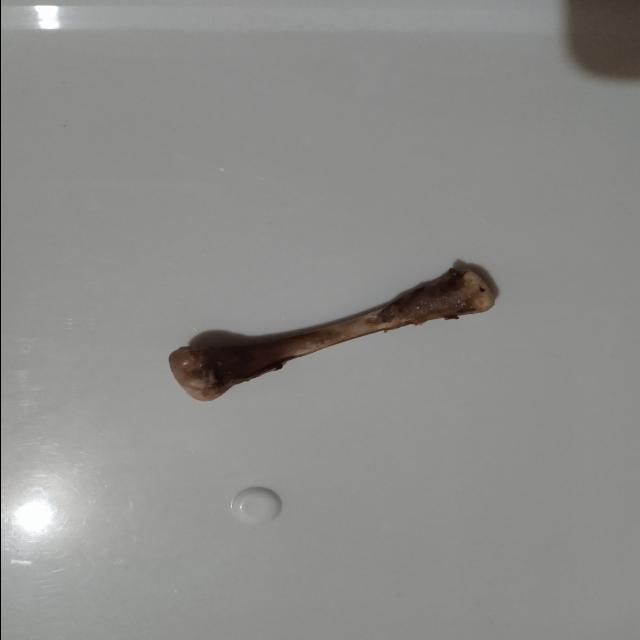bone: (157, 256, 504, 411)
